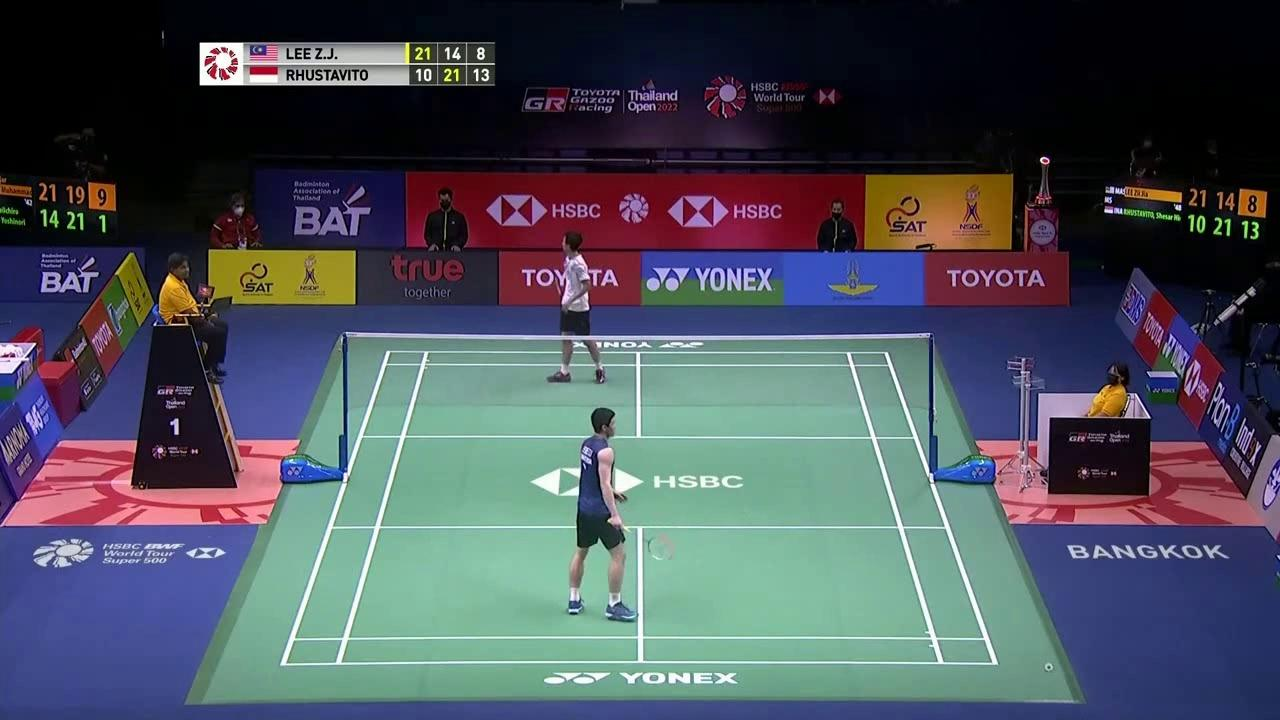racket: (607, 515, 675, 562), (555, 277, 565, 296)
shuttle: (1043, 661, 1054, 673)
